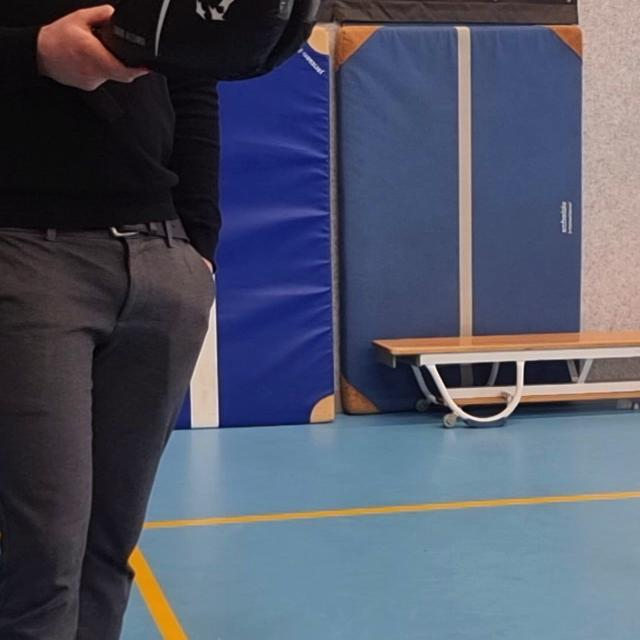paddle: (100, 0, 327, 76)
